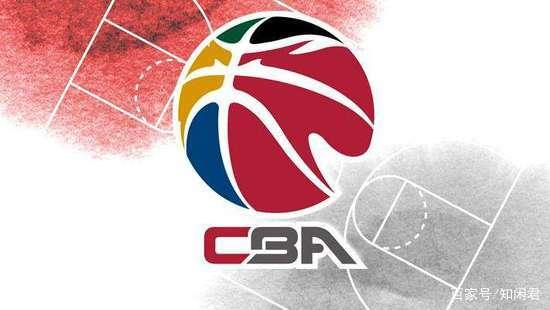ball: (177, 16, 375, 214)
